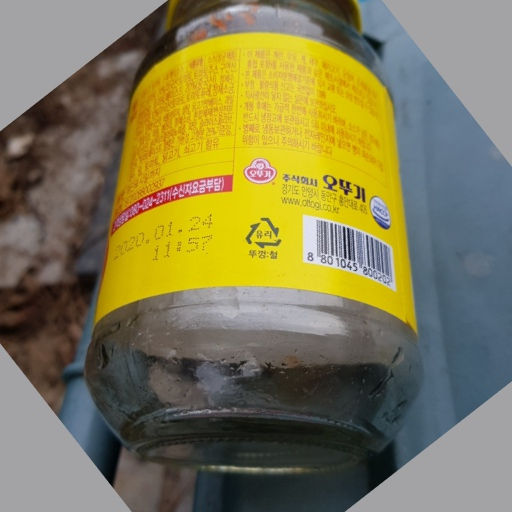Glass_5: (80, 1, 426, 475)
